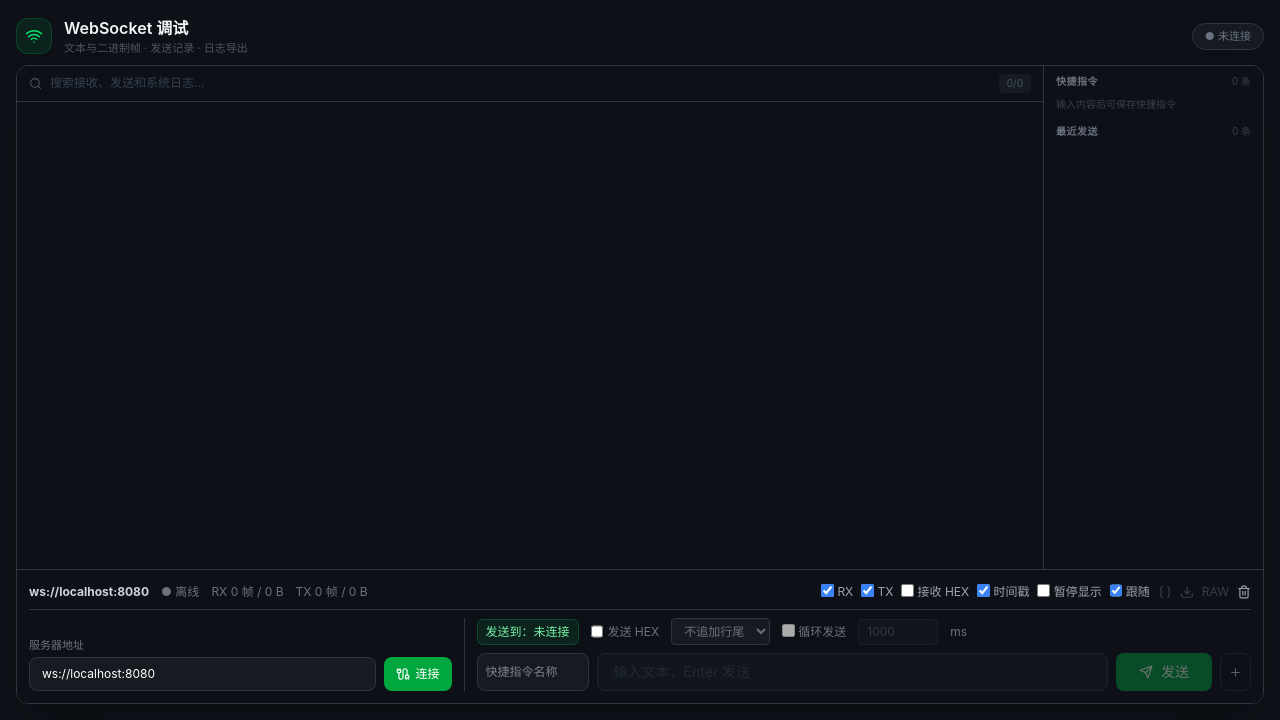
Test: WebSocketDebugger independent transport › sends and displays binary frames as normalized HEX
Click the button "连接".
click(418, 674)  # box [384, 657, 452, 691]
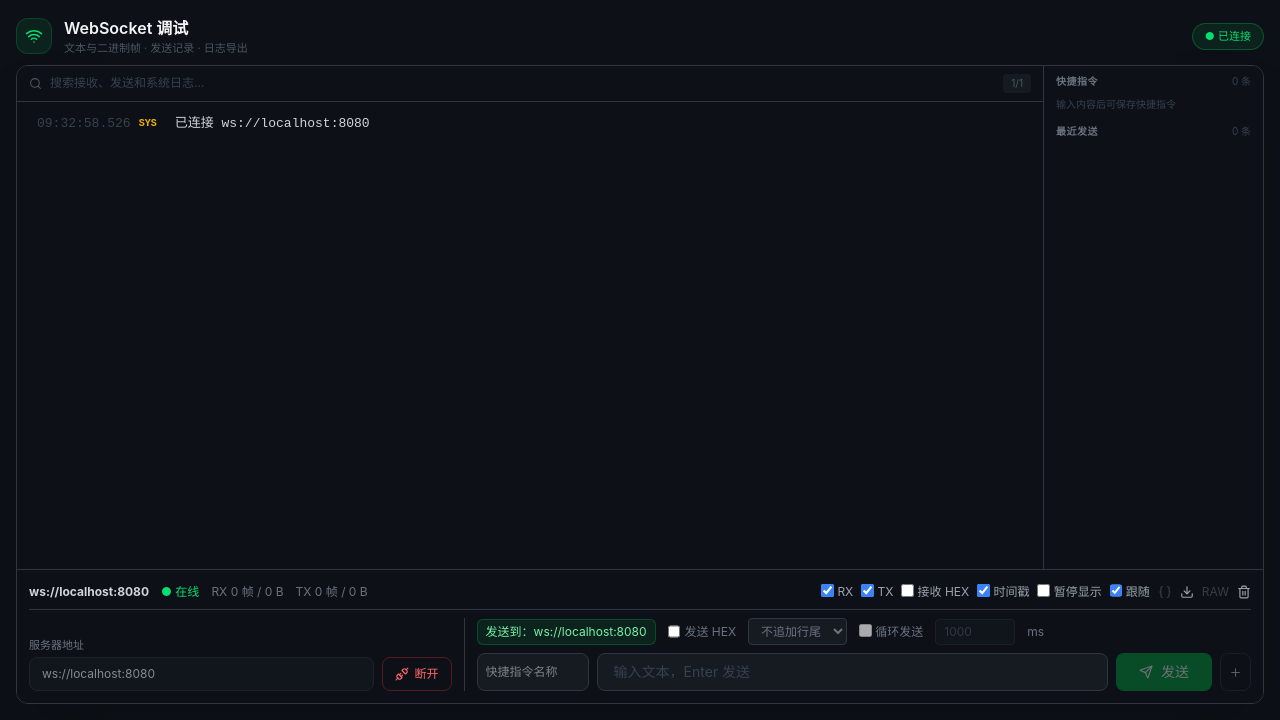
Click the checkbox labelled "发送 HEX".
click(674, 632)  # box [668, 625, 680, 638]
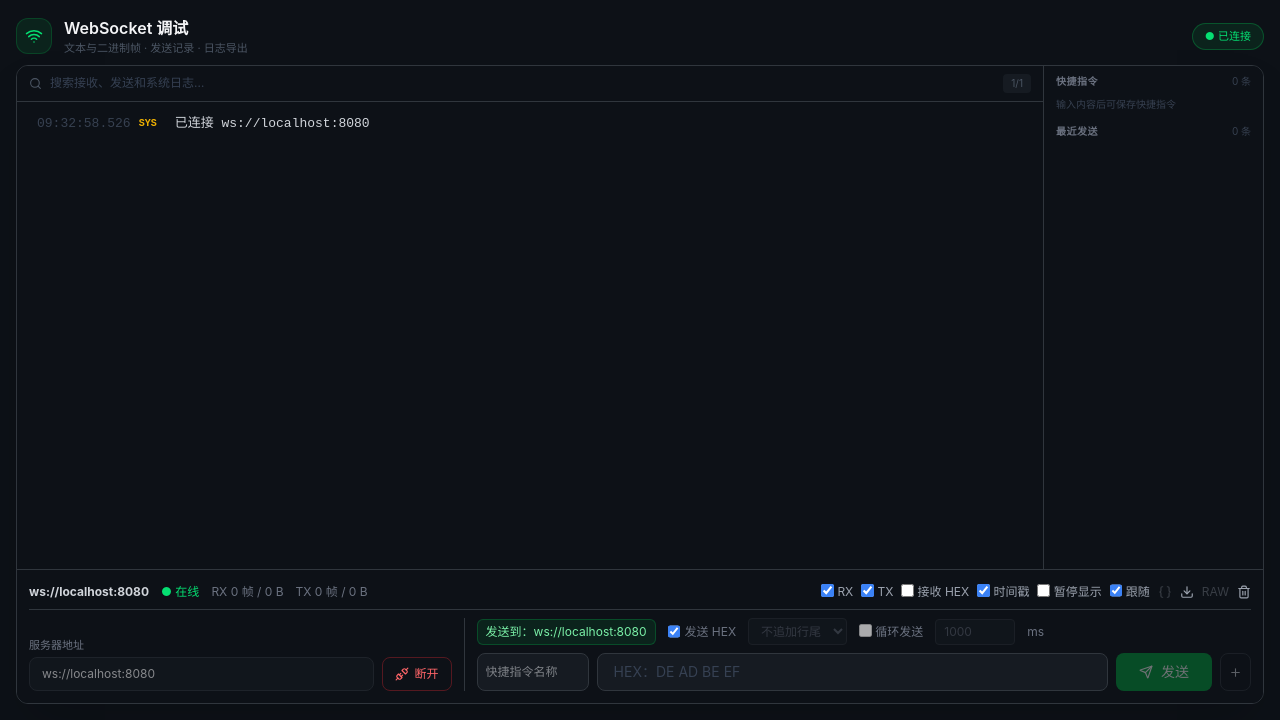
Type "de ad be ef" into the field with placeholder "HEX：DE AD BE EF".
click(852, 672); type("de ad be ef")  # box [597, 653, 1108, 691]
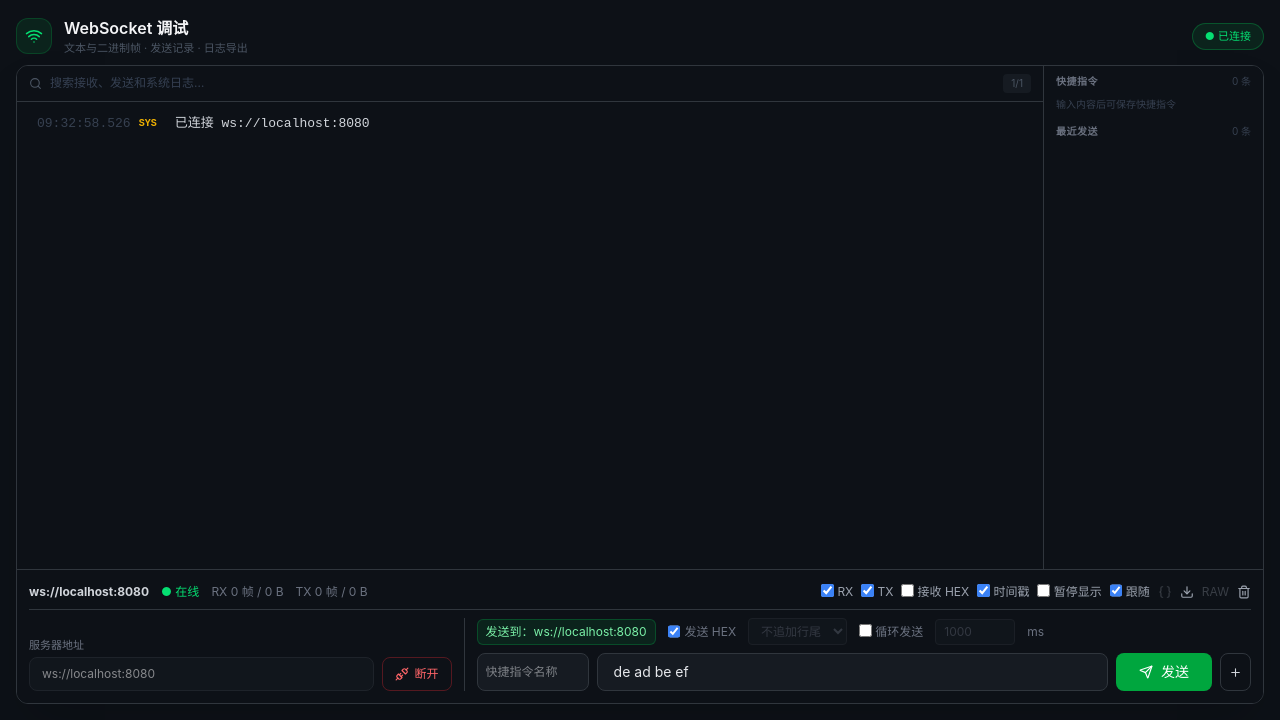
Click the button "发送".
click(1164, 672)  # box [1116, 653, 1212, 691]
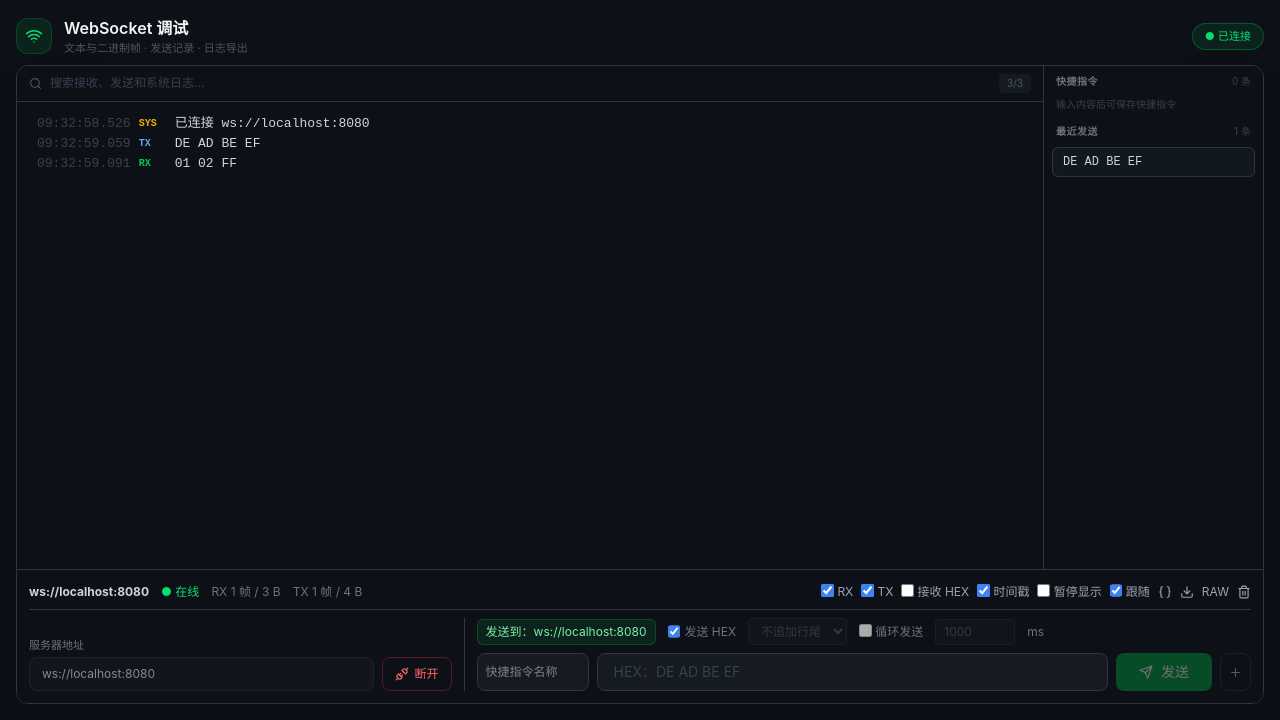
Check: the text "01 02 FF" is shown, box [175, 154, 237, 174]
